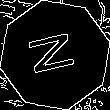N_E: (26, 30, 84, 80)
